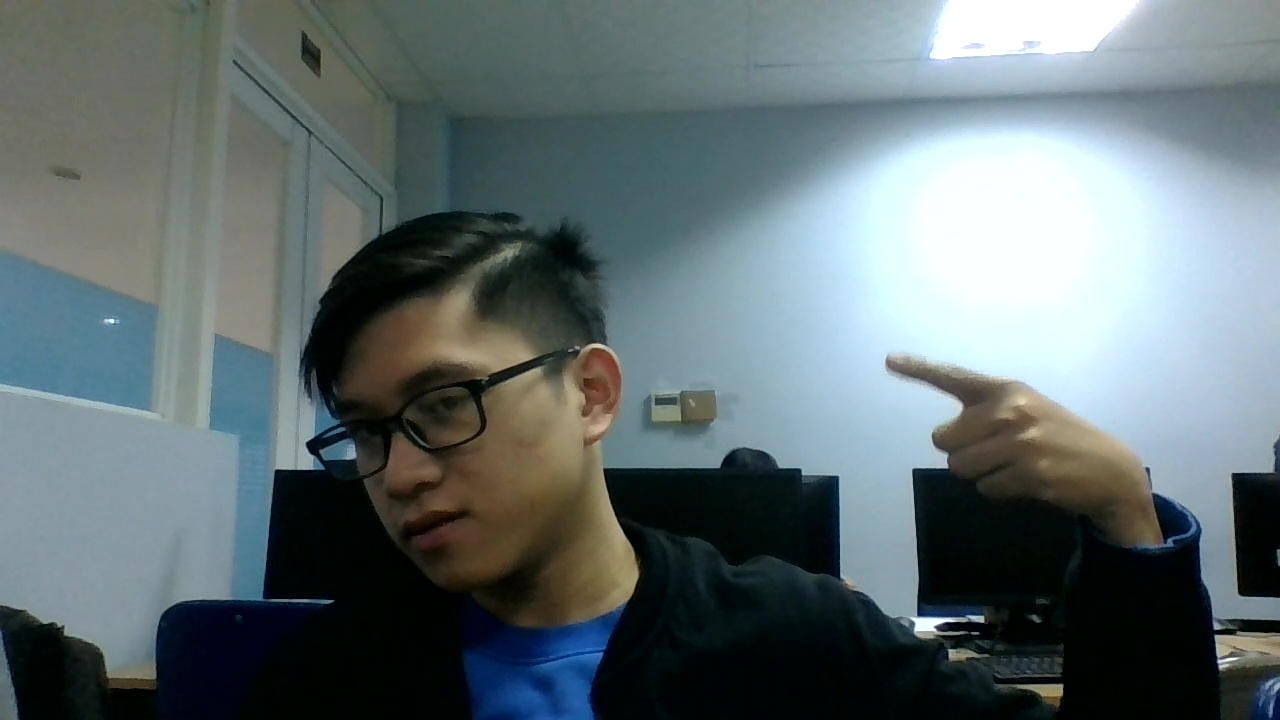right: (876, 341, 1178, 527)
